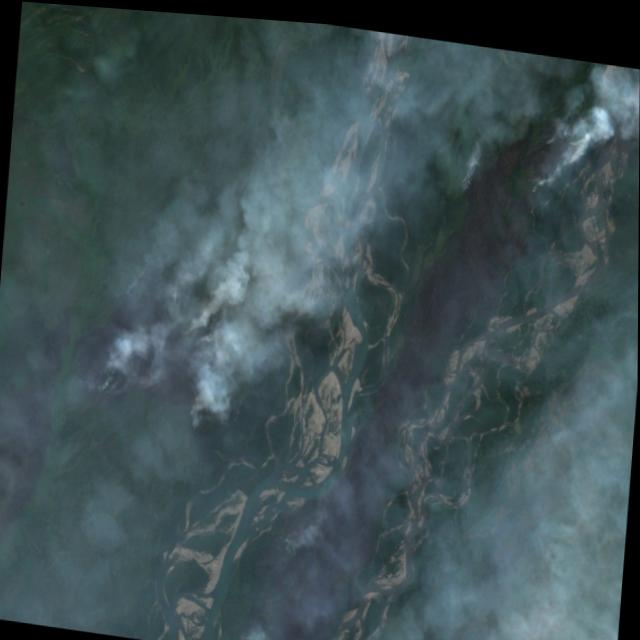fire: (96, 245, 251, 435), (515, 93, 598, 194)
